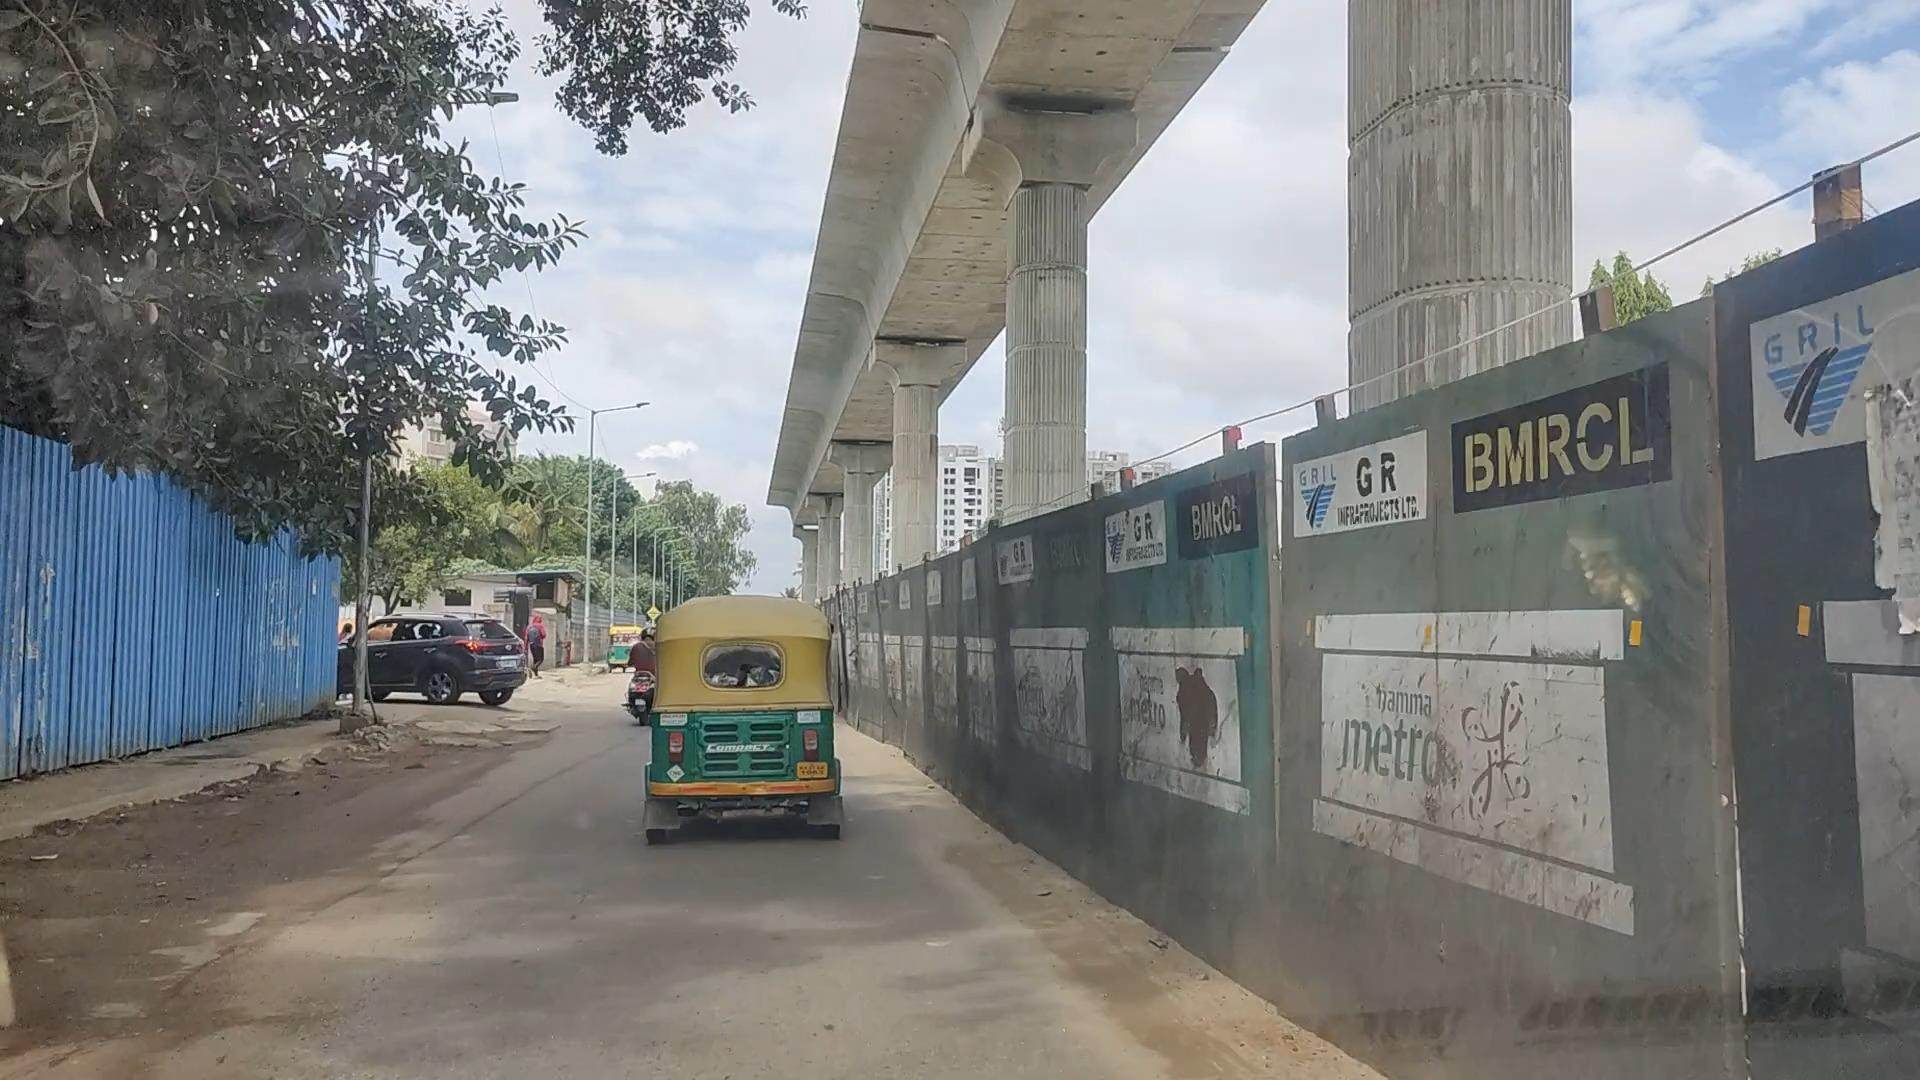LMV: (640, 587, 864, 841)
